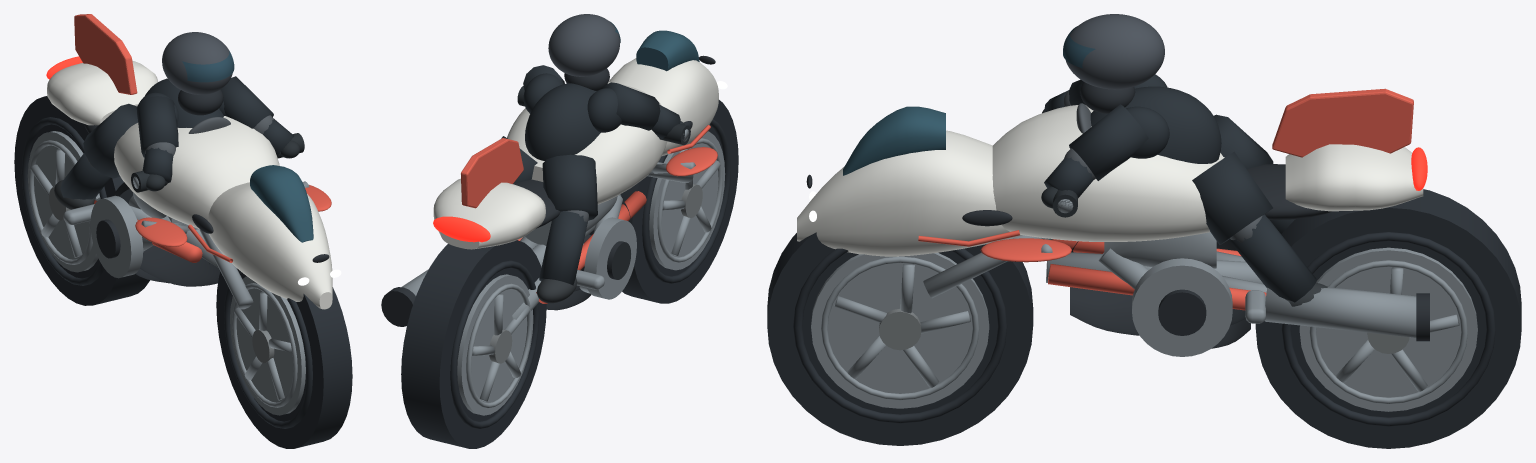
File: bike_solstice.glb
The picture shows the model from 3 angles, left to right: view 1: azimuth 30°, elevation 25°; view 2: azimuth 150°, elevation 25°; view 3: azimuth 270°, elevation 25°; orthographic projection. The views are drawn at different scales.
Visible parts, largest first — view 1: Blender Vehicle - Solstice Endurance.016 - Vehicle Body, WheelMesh_BikeWheel_Front_bike_solstice.016, WheelMesh_BikeWheel_Rear_bike_solstice.016; view 2: Blender Vehicle - Solstice Endurance.016 - Vehicle Body, WheelMesh_BikeWheel_Rear_bike_solstice.016, WheelMesh_BikeWheel_Front_bike_solstice.016; view 3: Blender Vehicle - Solstice Endurance.016 - Vehicle Body, WheelMesh_BikeWheel_Rear_bike_solstice.016, WheelMesh_BikeWheel_Front_bike_solstice.016.
Part boxes in pixels (box(x1,y1,x2,y2)): Blender Vehicle - Solstice Endurance.016 - Vehicle Body: box(46, 14, 341, 309); WheelMesh_BikeWheel_Front_bike_solstice.016: box(216, 268, 352, 448); WheelMesh_BikeWheel_Rear_bike_solstice.016: box(14, 96, 149, 305); Blender Vehicle - Solstice Endurance.016 - Vehicle Body: box(381, 14, 727, 326); WheelMesh_BikeWheel_Rear_bike_solstice.016: box(401, 240, 546, 448); WheelMesh_BikeWheel_Front_bike_solstice.016: box(620, 100, 738, 303); Blender Vehicle - Solstice Endurance.016 - Vehicle Body: box(797, 14, 1429, 356); WheelMesh_BikeWheel_Rear_bike_solstice.016: box(1255, 189, 1521, 448); WheelMesh_BikeWheel_Front_bike_solstice.016: box(767, 232, 1033, 445).
Size of the model in its own units: 1.13 by 2.01 by 3.29.
